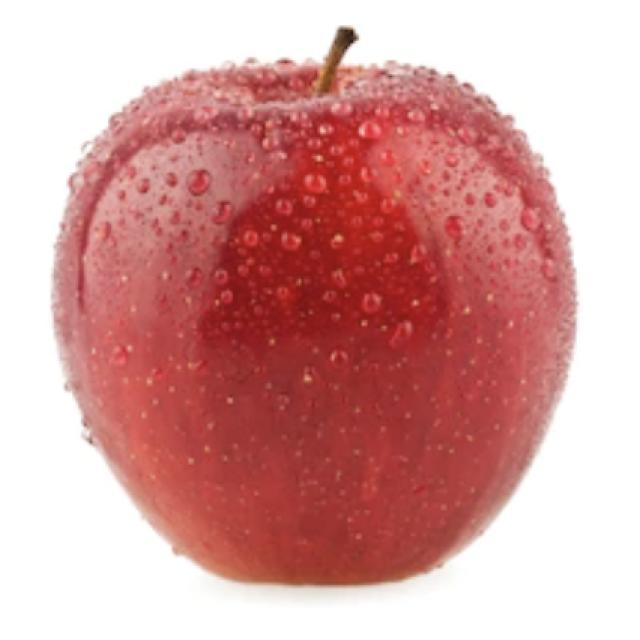Apple: (49, 25, 578, 587)
